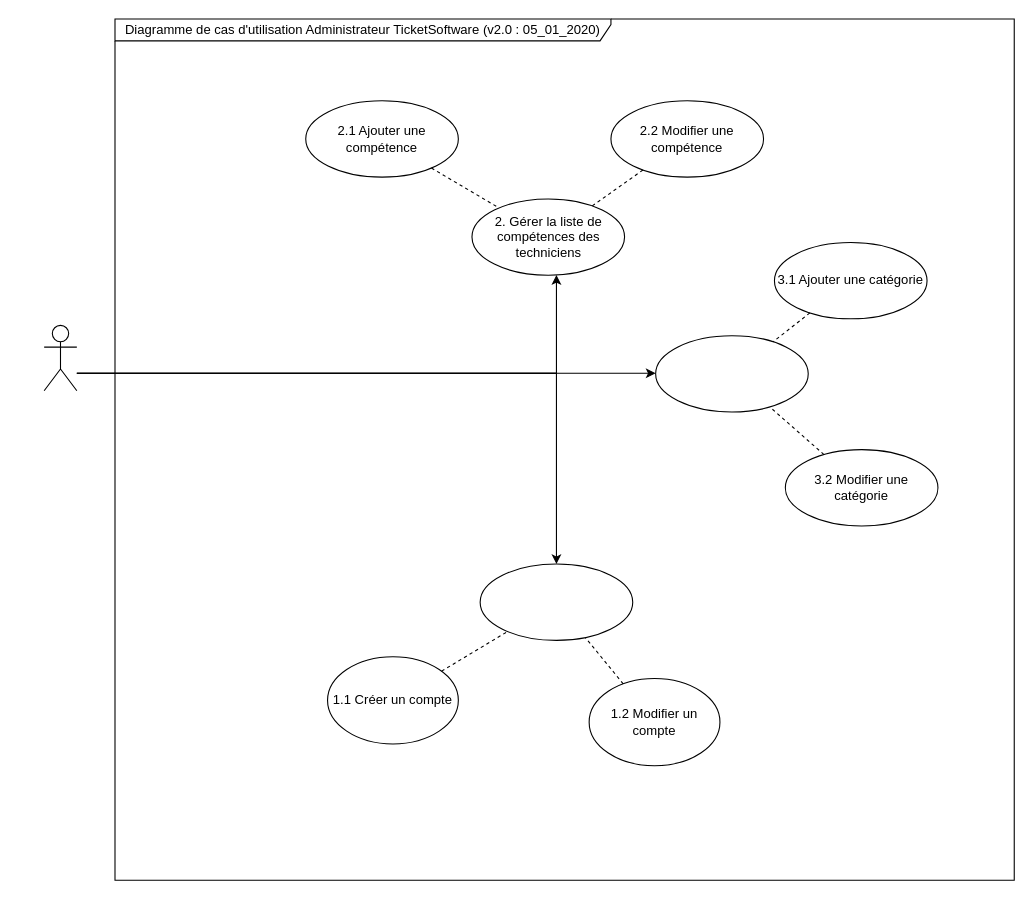
Some shapes in this 1033 by 899 pixel diagram are drawn without their labels. Each missing label, with the centre of its shape:
"1. Gérer les comptes" belongs at (556,601).
"3. Gérer la liste de catégories de maintenance" belongs at (731,373).
"Administrateur" belongs at (60,357).
